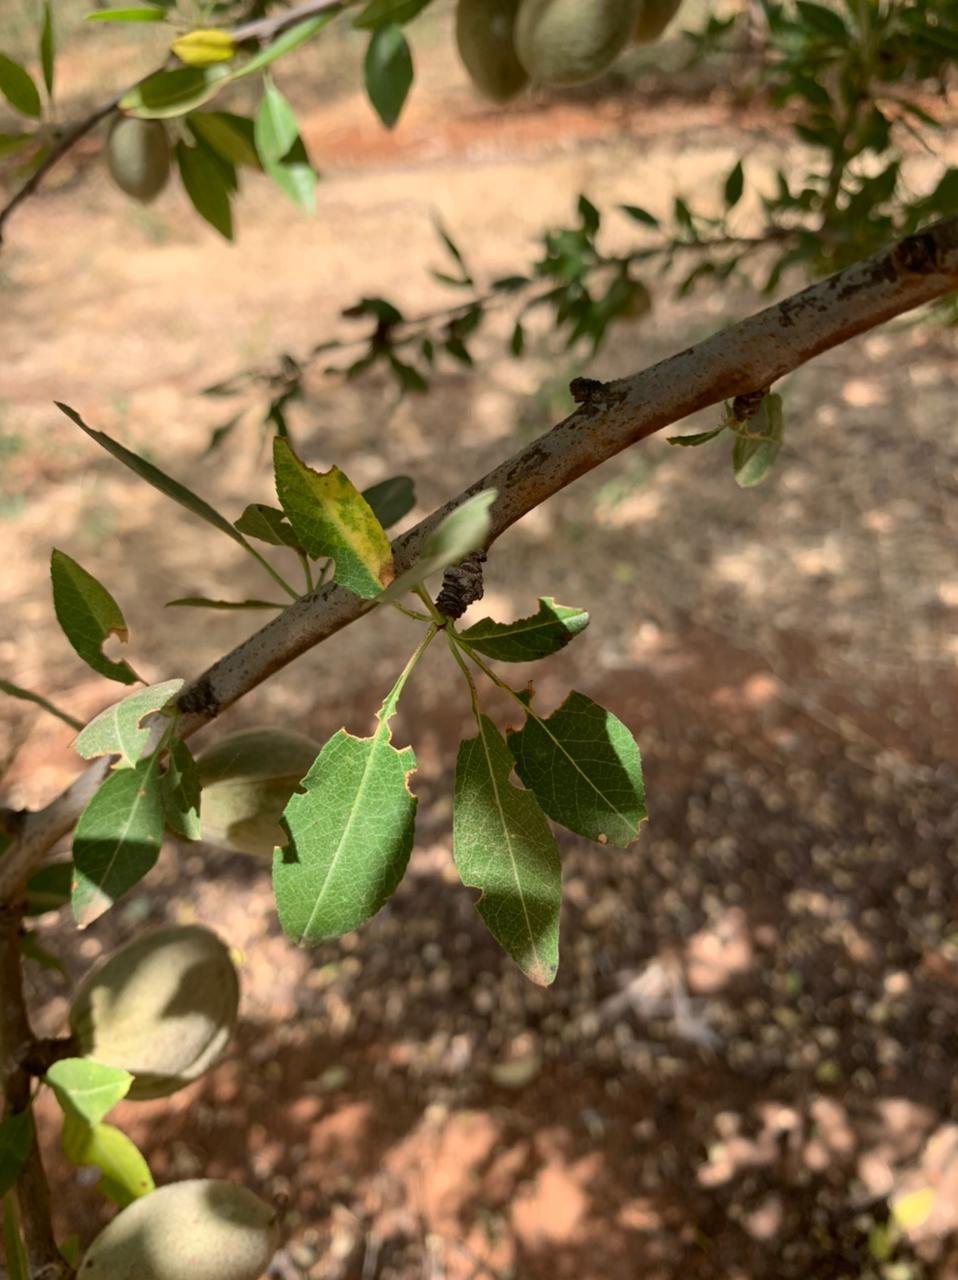othyorinques: (270, 694, 418, 949), (504, 680, 652, 850), (270, 431, 398, 599), (50, 544, 147, 685), (66, 676, 187, 773), (460, 594, 591, 663)
